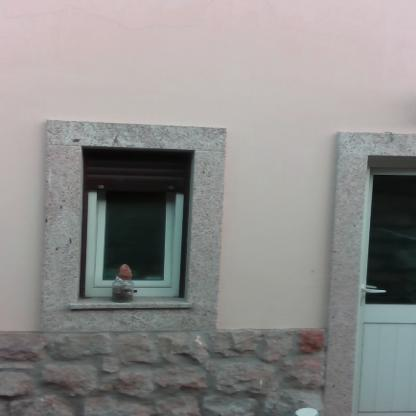door: (356, 164, 416, 416)
lever: (361, 286, 387, 296)
